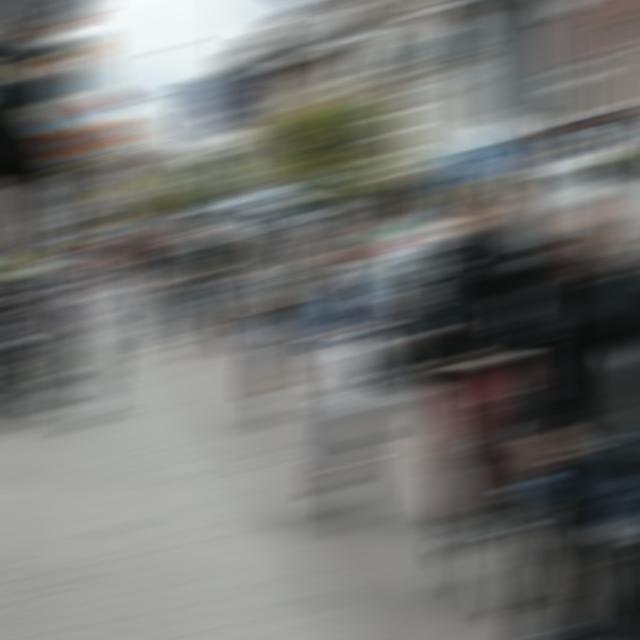Without Helmet: (466, 172, 525, 237), (312, 227, 374, 270), (249, 222, 296, 250), (218, 216, 257, 241)
